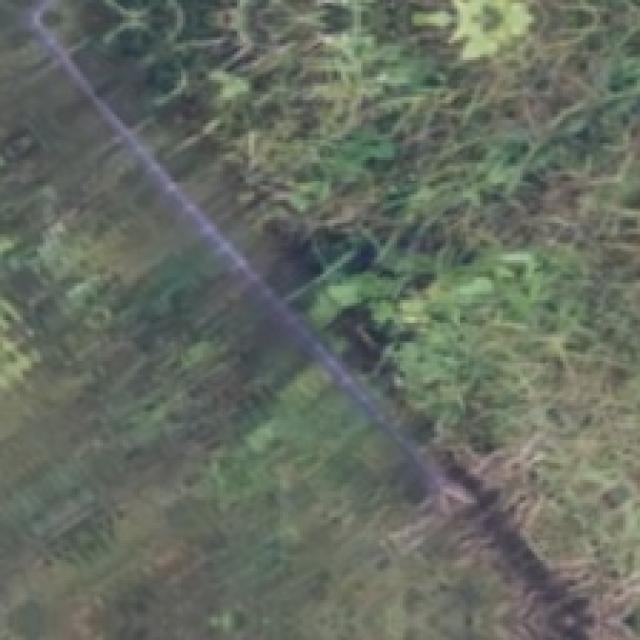king cobra: (49, 0, 637, 637)
